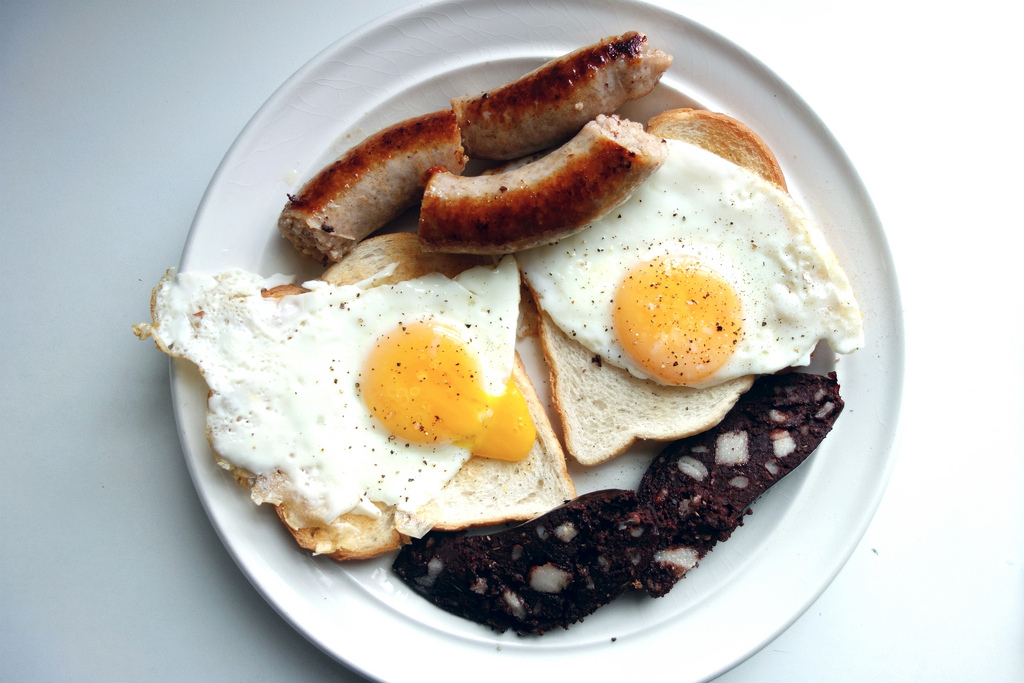fried egg: (201, 280, 560, 497), (579, 188, 815, 388)
slice of bread: (516, 118, 826, 441), (224, 247, 564, 541)
